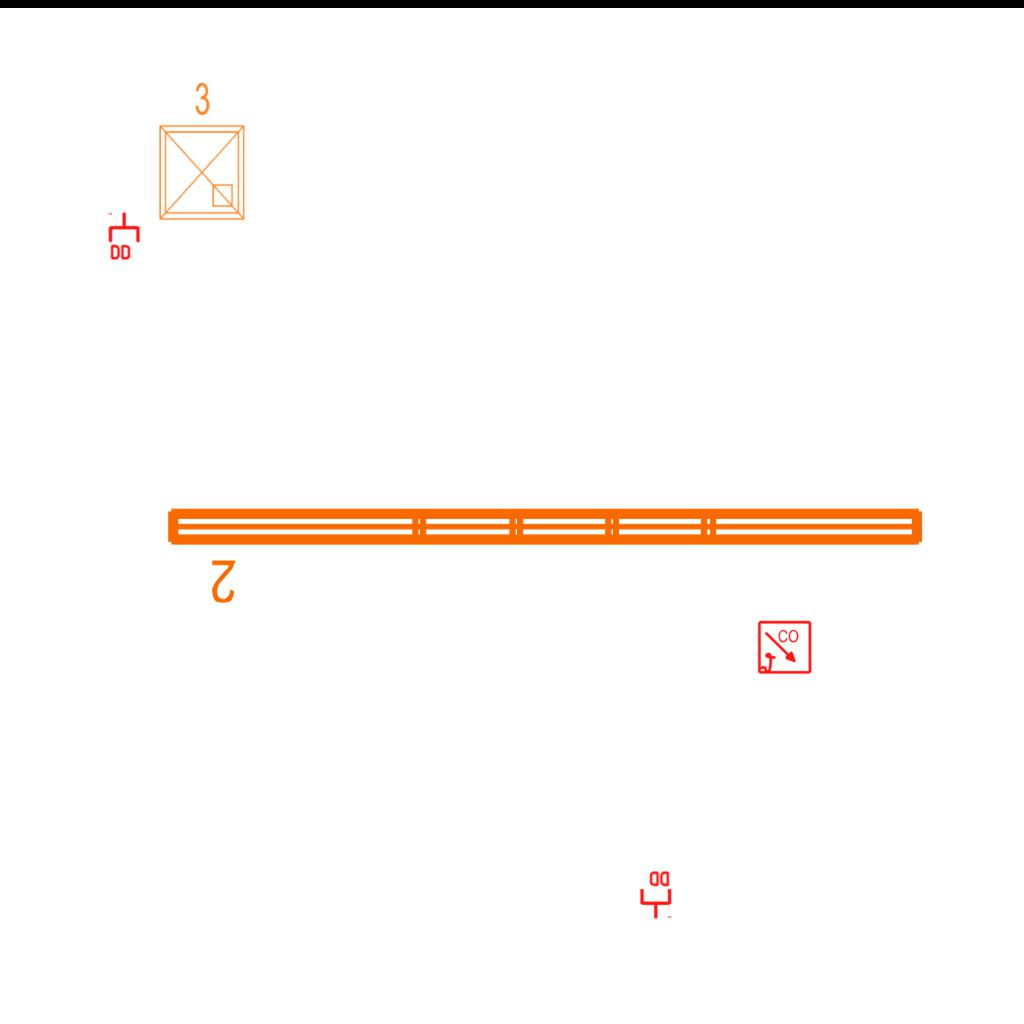Ambulanz_Pendelleuchte_LED: (159, 496, 933, 608)
Datenanschluss_zweifach: (638, 869, 672, 920), (108, 211, 142, 262)
Einbaudownlights_LED_Konferenzraeume: (148, 77, 252, 227)
ROA_Rauchmelder_optisch_mit_Signalgeber_(Sockelsirene): (757, 620, 813, 676)
